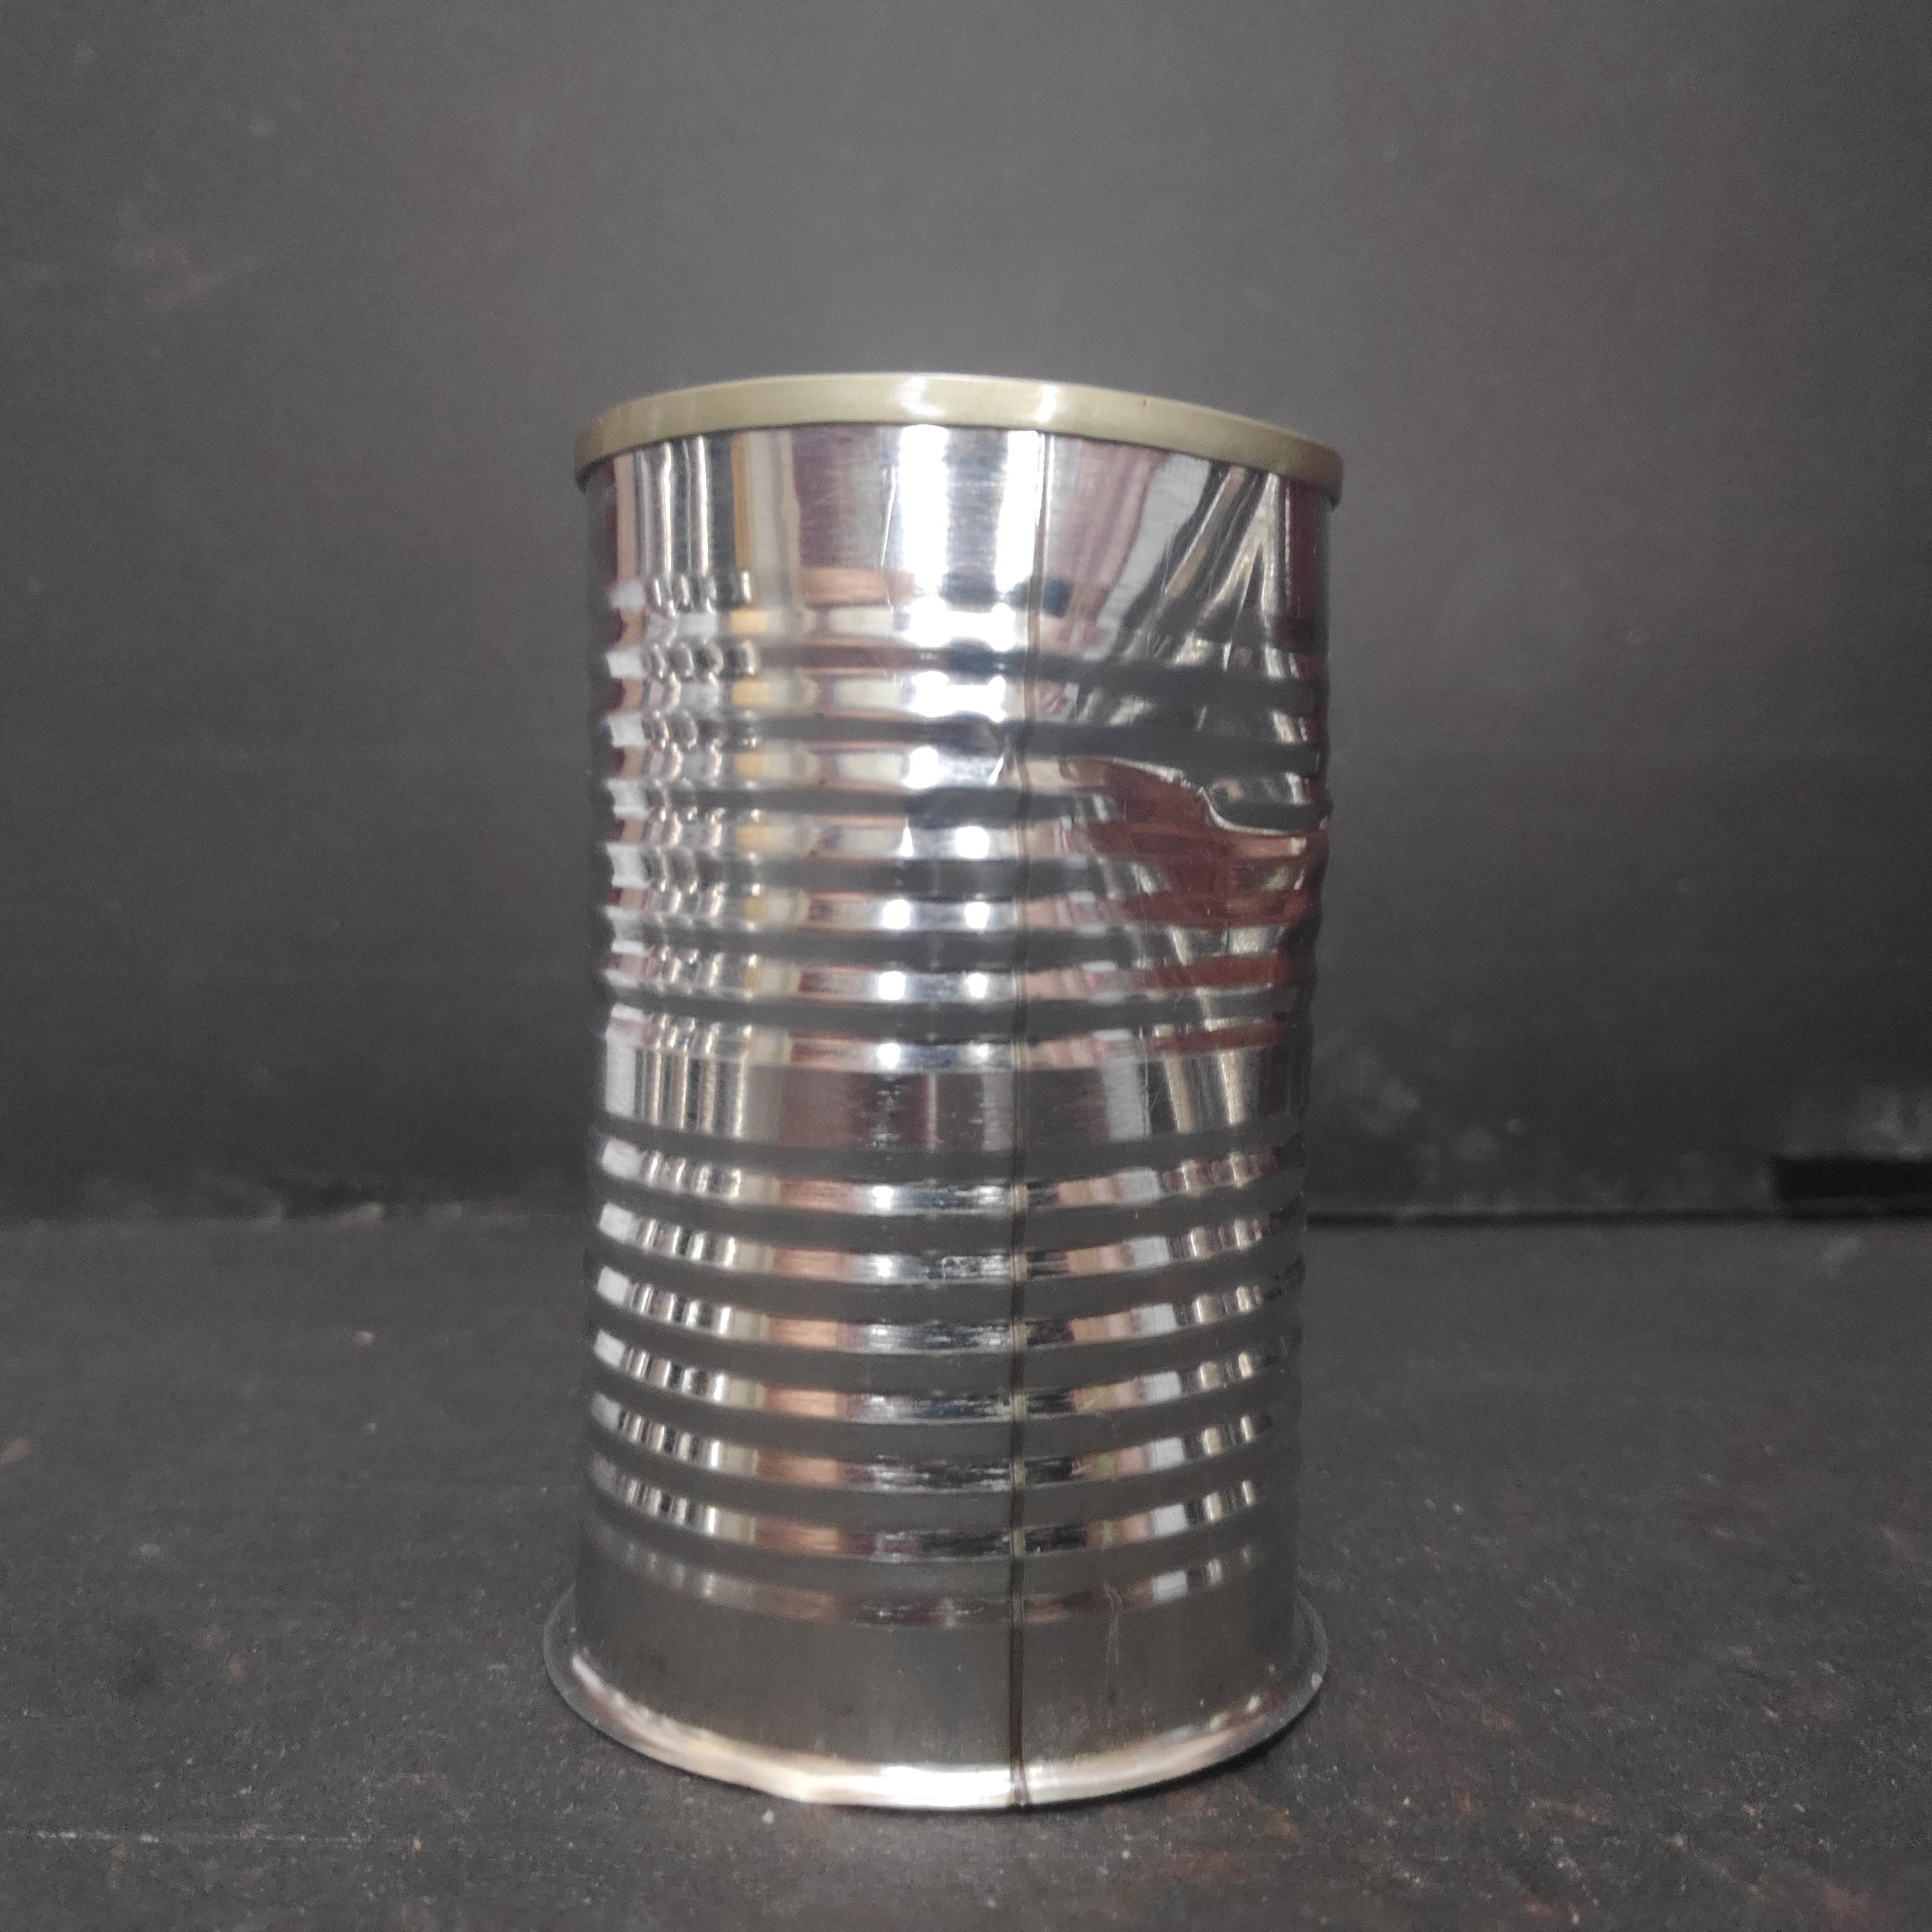Minor Defect: (563, 361, 1359, 1822)
